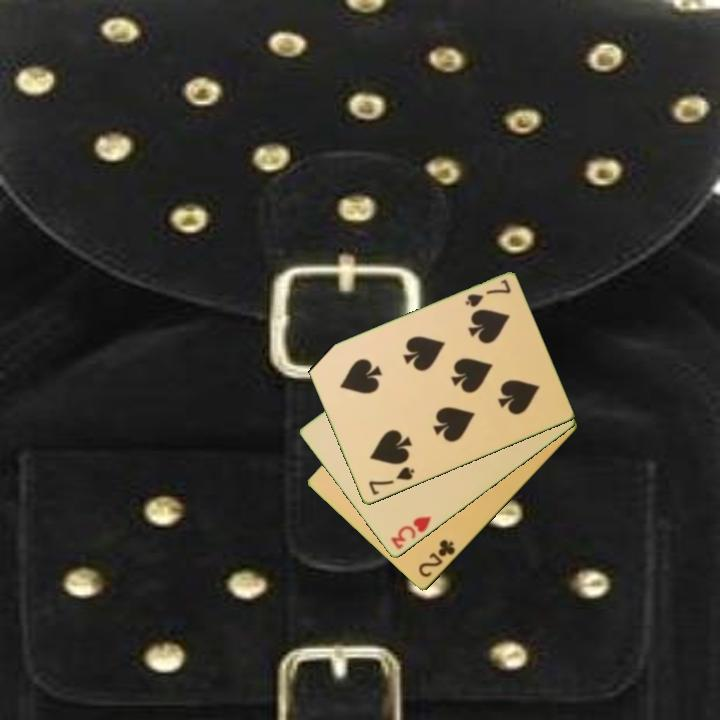2c: (415, 536, 458, 581)
3h: (387, 512, 434, 553)
7s: (461, 276, 514, 311), (365, 464, 418, 498)
